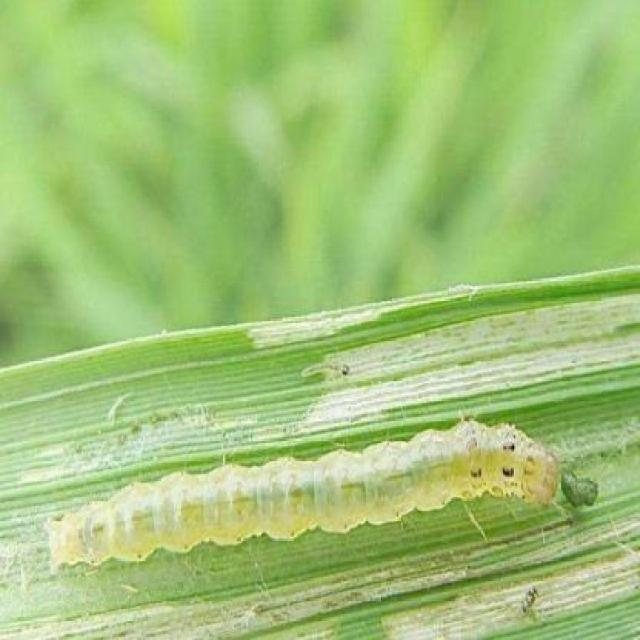leaf-folder: (0, 425, 598, 564)
